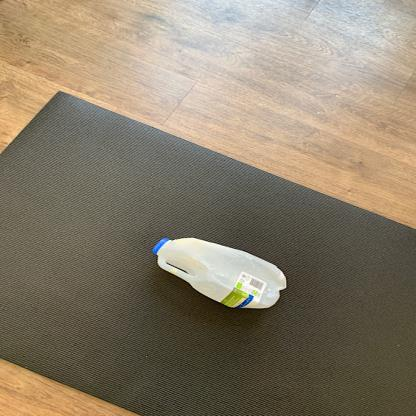trash: (150, 234, 294, 314)
